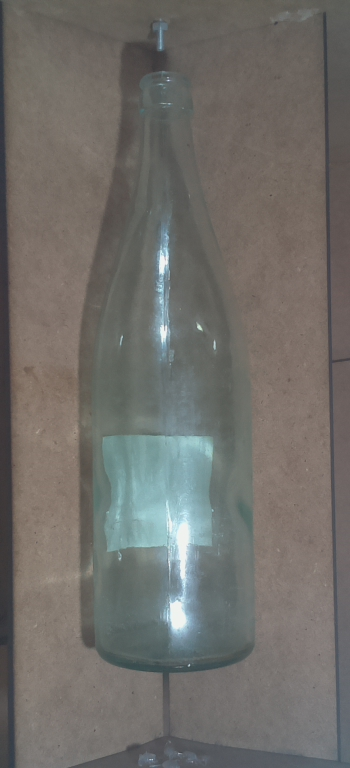Glass: (83, 63, 267, 679)
